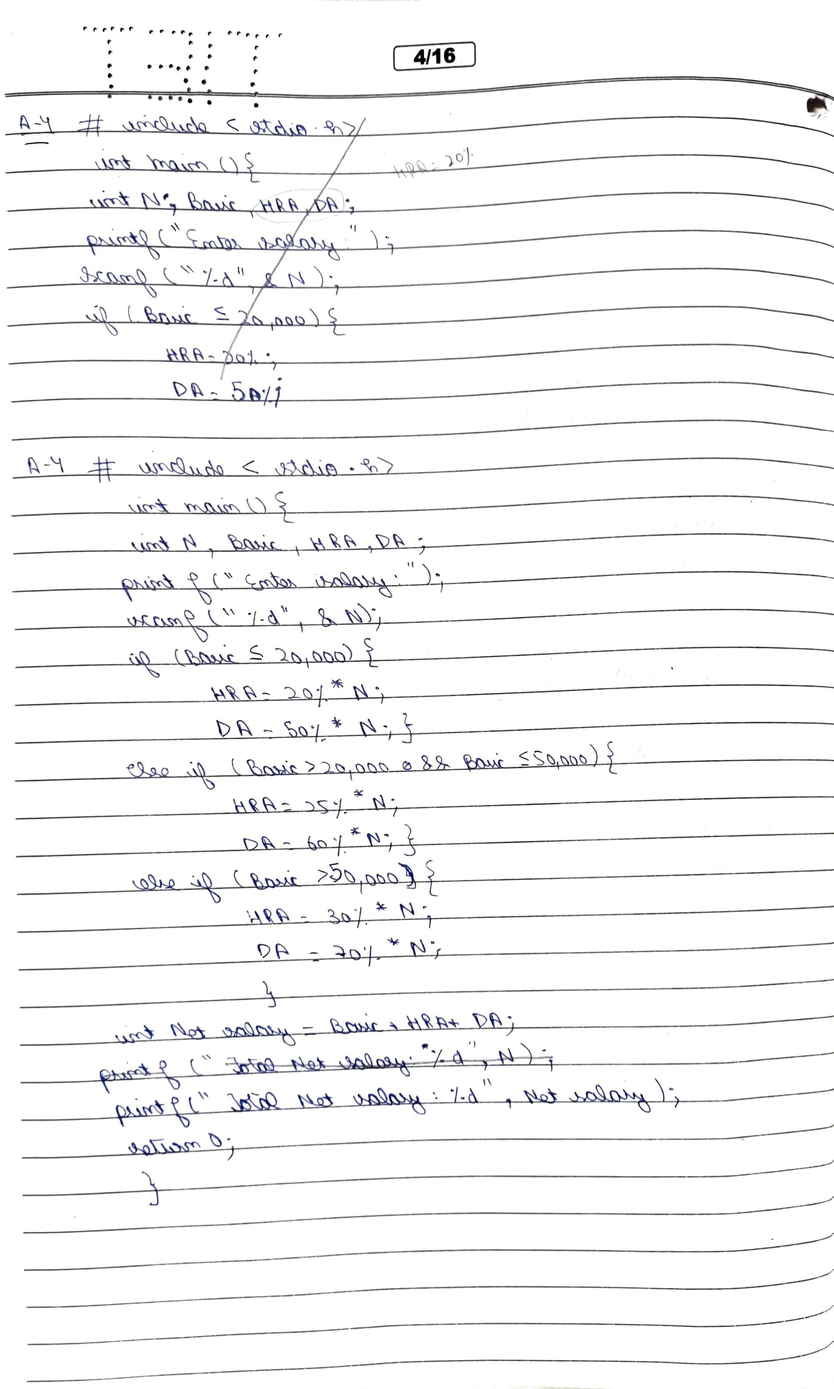cuttings: (76, 112, 399, 409), (225, 1039, 559, 1077), (95, 1058, 187, 1091)
